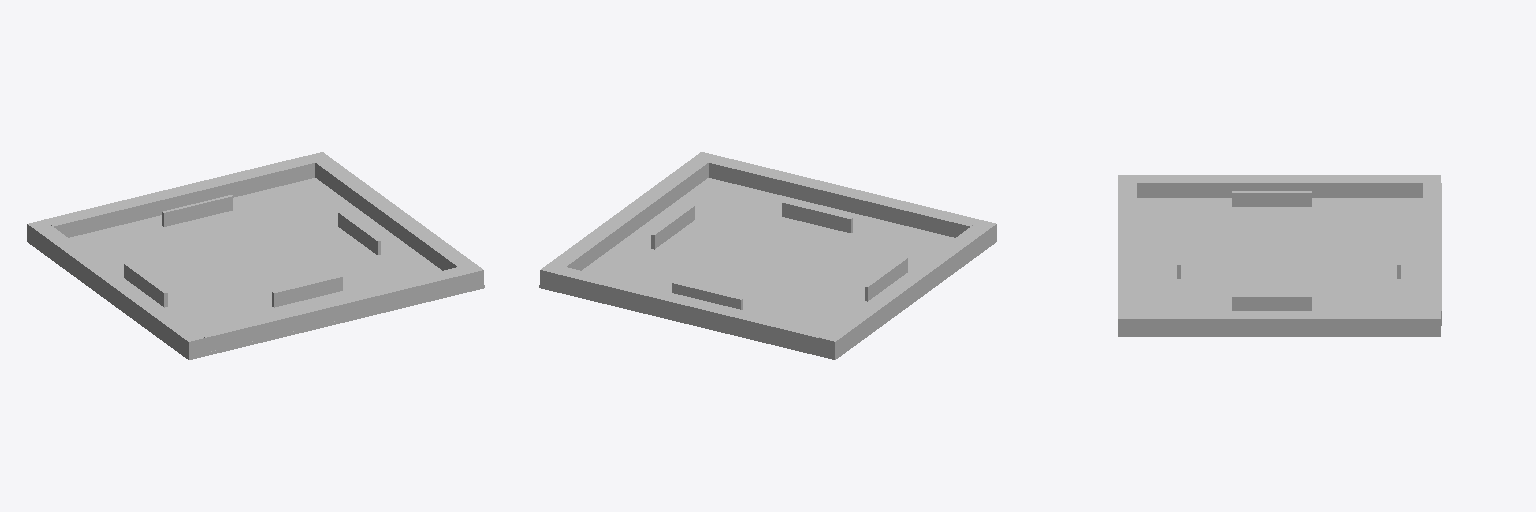
Rendered from level1.obj.
3 renders of one model, left to right at view 1: azimuth 30°, elevation 25°; view 2: azimuth 150°, elevation 25°; view 3: azimuth 270°, elevation 25°, orthographic.
Visible parts, largest first — view 1: floor, bottom_wall_outer, top_wall_outer, left_wall_outer, right_wall_outer, top_wall_inner, bottom_wall_inner, left_wall_inner, right_wall_inner; view 2: floor, top_wall_outer, bottom_wall_outer, left_wall_outer, right_wall_outer, bottom_wall_inner, top_wall_inner, right_wall_inner, left_wall_inner; view 3: floor, right_wall_outer, left_wall_outer, top_wall_outer, bottom_wall_outer, right_wall_inner, left_wall_inner.
Boxes of the visible parts, box(x1,y1,x2,y2) form: floor: box(27, 178, 484, 359); bottom_wall_outer: box(196, 267, 467, 352); top_wall_outer: box(44, 156, 314, 237); left_wall_outer: box(27, 220, 204, 356); right_wall_outer: box(307, 152, 483, 288); top_wall_inner: box(162, 195, 232, 226); bottom_wall_inner: box(272, 275, 342, 307); left_wall_inner: box(124, 263, 167, 307); right_wall_inner: box(338, 211, 380, 254); floor: box(539, 178, 996, 359); top_wall_outer: box(557, 267, 827, 352); bottom_wall_outer: box(709, 156, 978, 237); left_wall_outer: box(819, 220, 996, 356); right_wall_outer: box(540, 152, 716, 288); bottom_wall_inner: box(782, 201, 852, 232); top_wall_inner: box(672, 282, 742, 309); right_wall_inner: box(651, 205, 694, 249); left_wall_inner: box(865, 257, 907, 301); floor: box(1118, 198, 1440, 336); right_wall_outer: box(1118, 311, 1440, 333); left_wall_outer: box(1118, 175, 1440, 197); top_wall_outer: box(1423, 183, 1441, 325); bottom_wall_outer: box(1118, 183, 1136, 310); right_wall_inner: box(1232, 295, 1311, 310); left_wall_inner: box(1232, 191, 1311, 206).
Size of the model in its own units: 180 by 10.71 by 170.